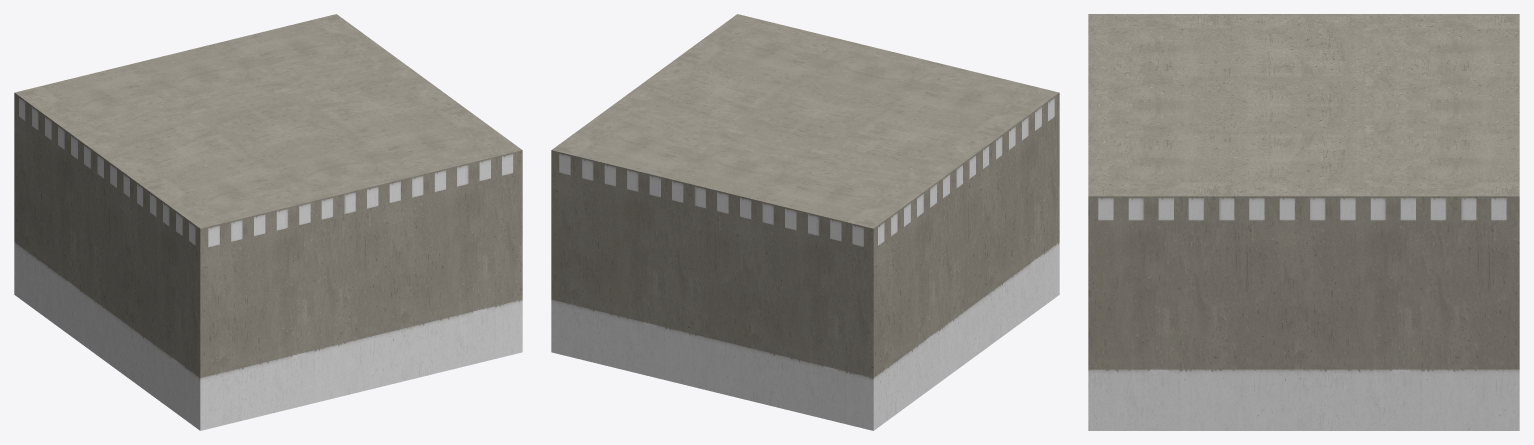
Rendered from concrete_cube_1m.dae.
The picture shows the model from 3 angles, left to right: view 1: azimuth 30°, elevation 25°; view 2: azimuth 150°, elevation 25°; view 3: azimuth 270°, elevation 25°; orthographic projection. The views are drawn at different scales.
Visible parts, largest first — view 1: Cube; view 2: Cube; view 3: Cube.
Part boxes in pixels (x1,y1,x2,y2): Cube: (14,14,522,430); Cube: (551,14,1059,430); Cube: (1088,14,1519,430).
Size of the model in its own units: 1 by 1 by 0.6.
1 material, 1 textured.
